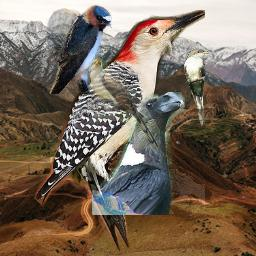Crow: (92, 92, 185, 215)
Cuckoo: (88, 57, 160, 150), (184, 48, 209, 126)
Swallow: (46, 4, 112, 94)
Woodpecker: (33, 10, 205, 255)
